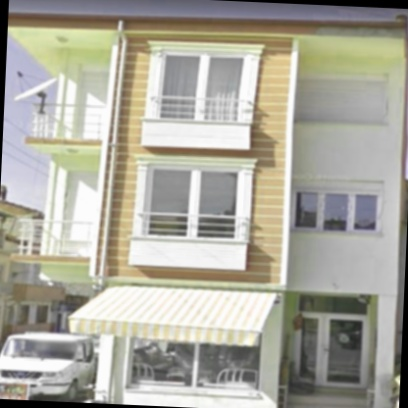door: (292, 313, 369, 388)
